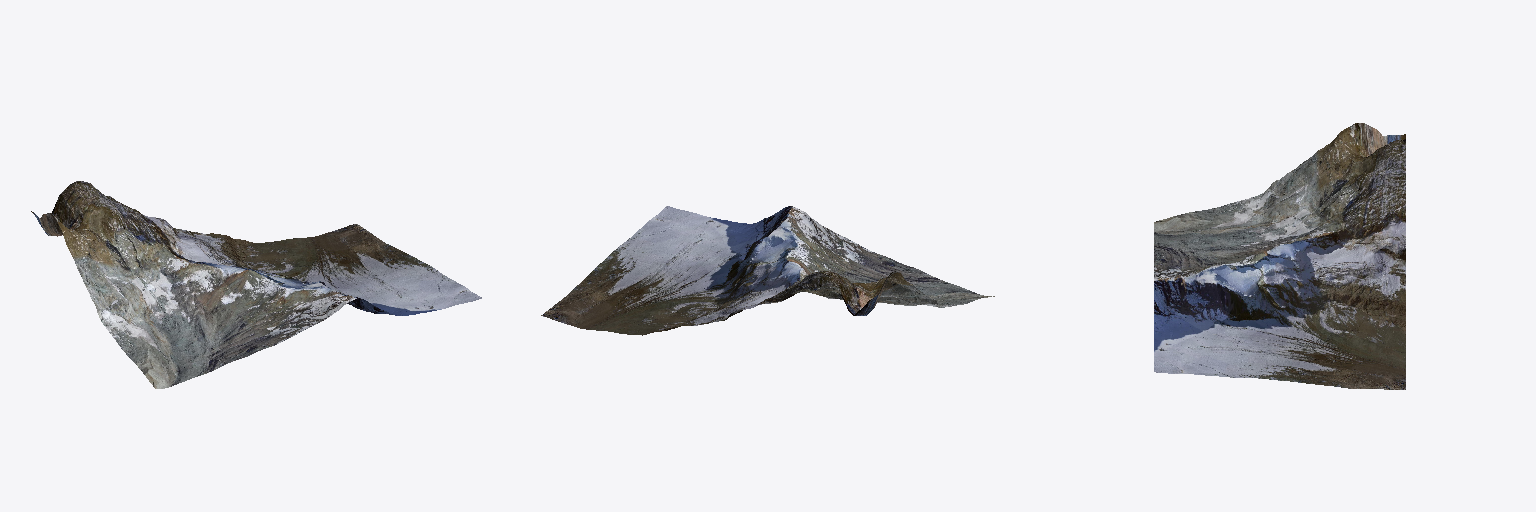
The picture shows the model from 3 angles: view 1: azimuth 30°, elevation 25°; view 2: azimuth 150°, elevation 25°; view 3: azimuth 270°, elevation 25°; orthographic projection.
Parts seen in each view (by area): view 1: EXPORT_GOOGLE_SAT_WM.017; view 2: EXPORT_GOOGLE_SAT_WM.017; view 3: EXPORT_GOOGLE_SAT_WM.017.
Boxes of the visible parts, <box> form: EXPORT_GOOGLE_SAT_WM.017: <box>31,181,481,388</box>; EXPORT_GOOGLE_SAT_WM.017: <box>541,206,994,335</box>; EXPORT_GOOGLE_SAT_WM.017: <box>1154,123,1405,389</box>.
Bounding box in the file's own units: 4562 × 1505 × 3041.
Materials: 1 (1 with a texture image).